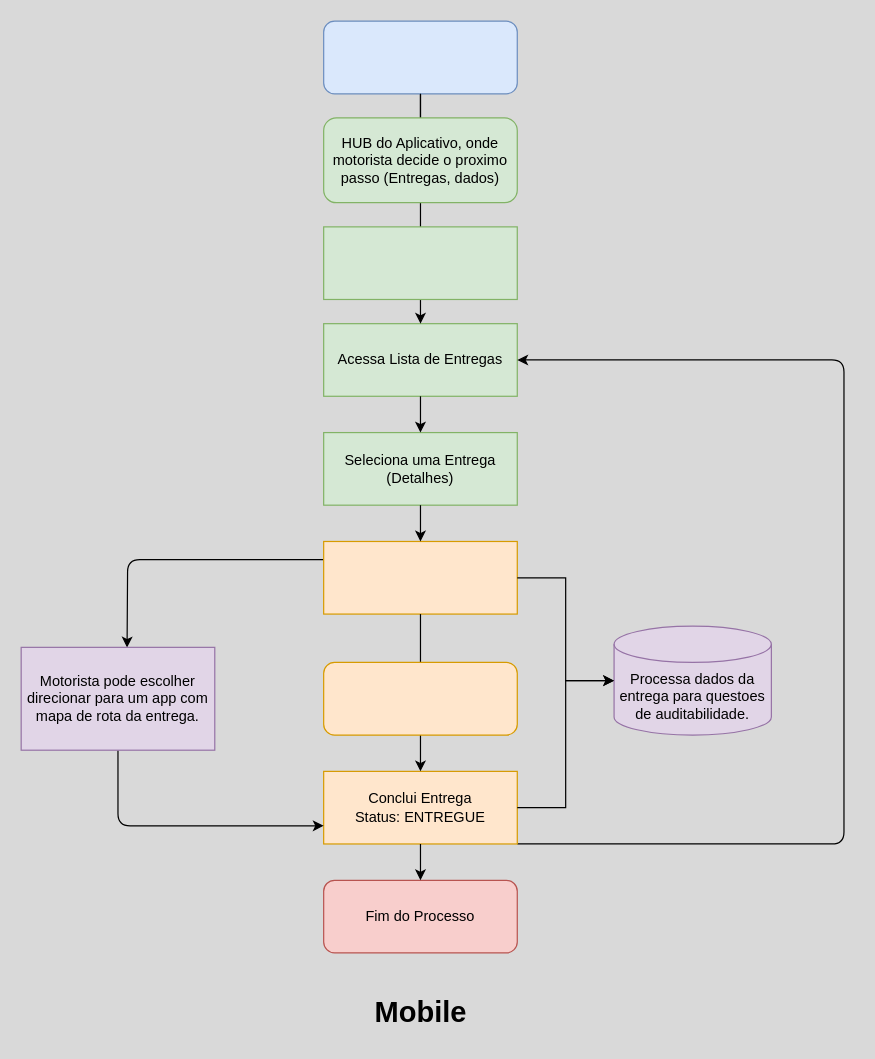
Some shapes in this 875 by 1059 pixel diagram are drawn without their labels. Each missing label, with the box of its shape:
Coleta os dados de auditoria e envia comprovante/salva os dados.: (322, 661, 517, 735)
Inicia Trajeto Status: EM_ROTA: (322, 540, 517, 614)
Motorista Loga no App (POST /auth/login): (322, 20, 517, 94)
Verifica entregas para aquele usuario logado.: (322, 226, 517, 299)
